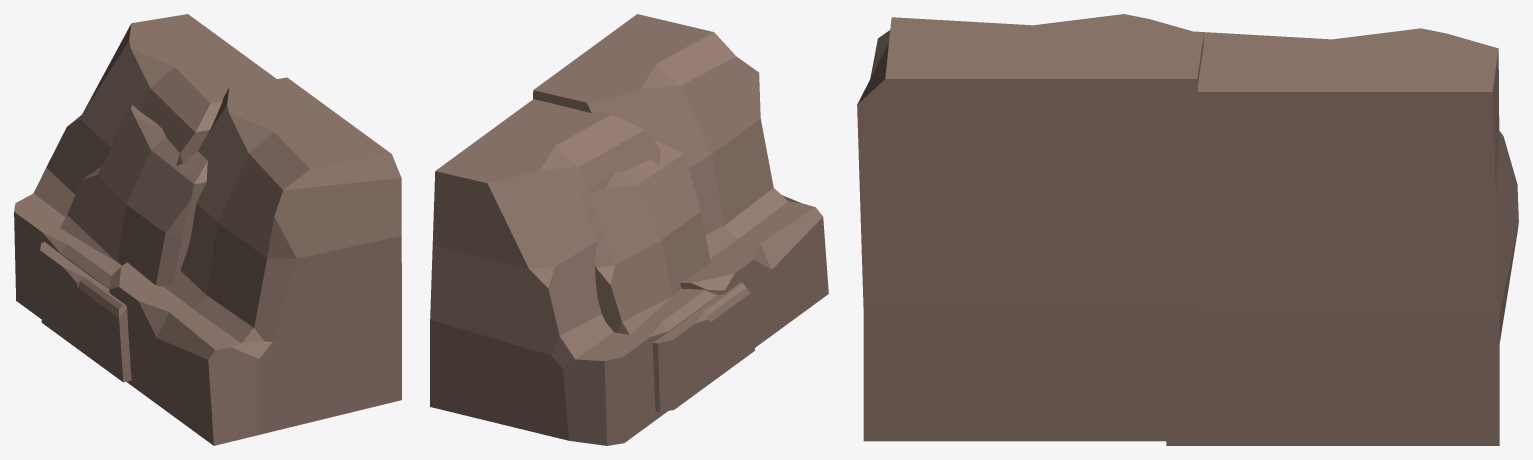
Rendered from cliff.fbx.
3 renders of one model, left to right at view 1: azimuth 30°, elevation 25°; view 2: azimuth 150°, elevation 25°; view 3: azimuth 270°, elevation 25°, orthographic. The views are drawn at different scales.
Visible parts, largest first — view 1: Cube.009; view 2: Cube.009; view 3: Cube.009.
Part boxes in pixels (bbox=[...]): Cube.009: bbox=[14, 14, 401, 445]; Cube.009: bbox=[430, 14, 828, 445]; Cube.009: bbox=[857, 14, 1518, 445].
Bounding box in the file's own units: 790 × 953 × 1546.
